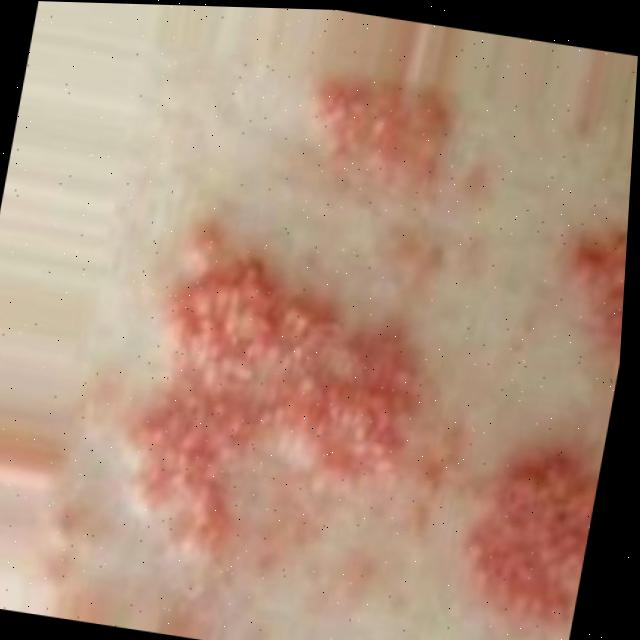Shingles: (94, 41, 638, 638)
